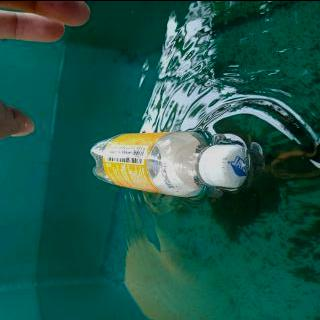bottle: (82, 126, 252, 198)
